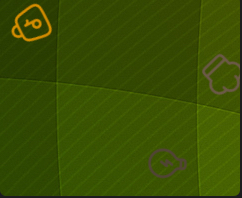bulb: (145, 143, 188, 185)
chef: (197, 52, 239, 96)
keybag: (6, 1, 57, 49)
